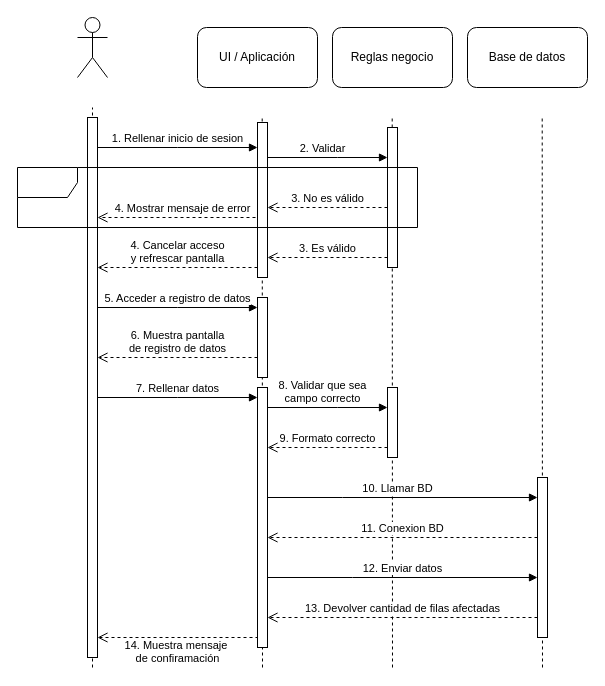
The diagram is 605 pixels wide and 686 high, and some of its shapes have lost their labels. The box of each missing label's shape, as (x1, y1, x2, y2) in pixels:
alt: (16, 166, 418, 228)
Usuario: (76, 16, 108, 78)
